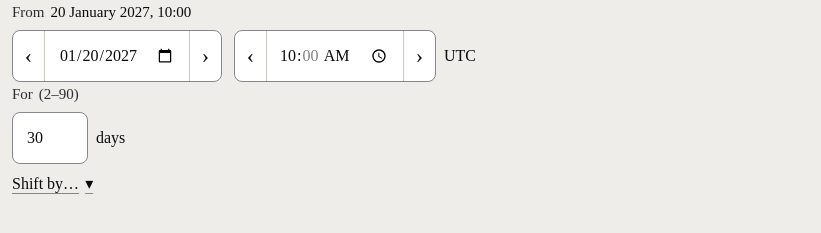
Test case: PeriodControls › keeps a date the period cannot take in the box until the box is left, then shows the period's date again and says why
Note: A whole date whose 30 days run past the table's end, then an emptied box.
Type "2036-12-20" into the date field labelled "From" at {"x": 117, "y": 56}, box [45,31,189,81]
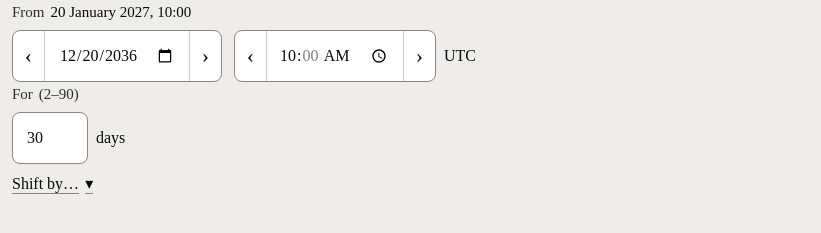
Leave the date field labelled "From", box [45,31,189,81]
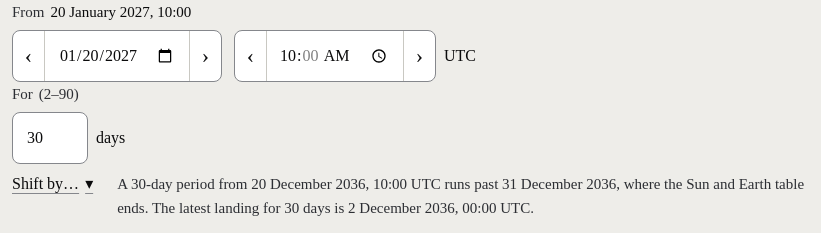
Check: the date field labelled "From" holds "2027-01-20"
Check: the message shows "A 30-day period from 20 December 2036, 10:00 UTC runs past 31 December 2036", box [117,176,804,216]
Clear the date field labelled "From" at {"x": 117, "y": 56}, box [45,31,189,81]
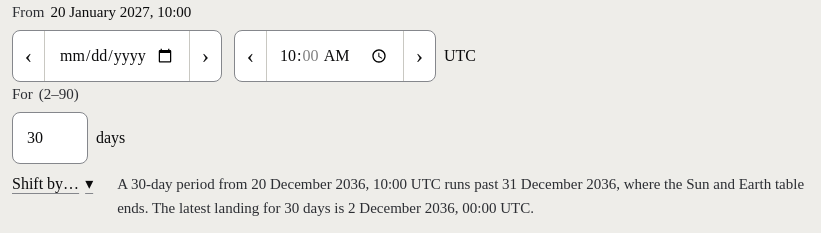
Leave the date field labelled "From", box [45,31,189,81]
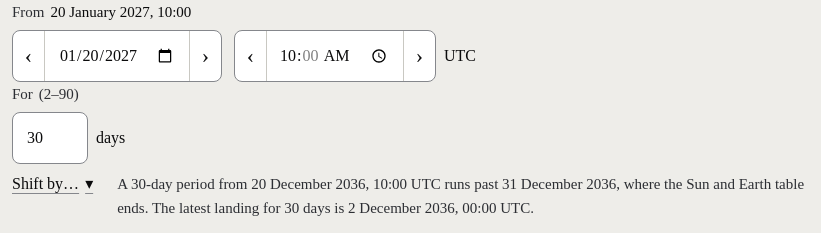
Check: the date field labelled "From" holds "2027-01-20", box [45,31,189,81]
